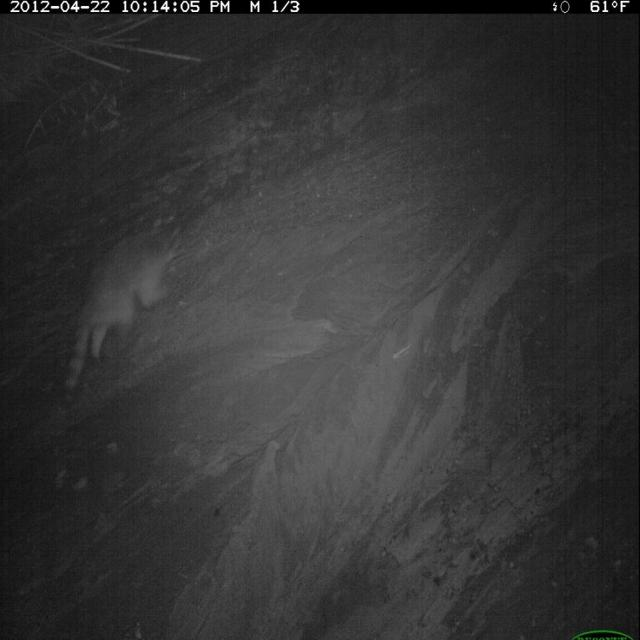raccoon: (60, 211, 189, 416)
